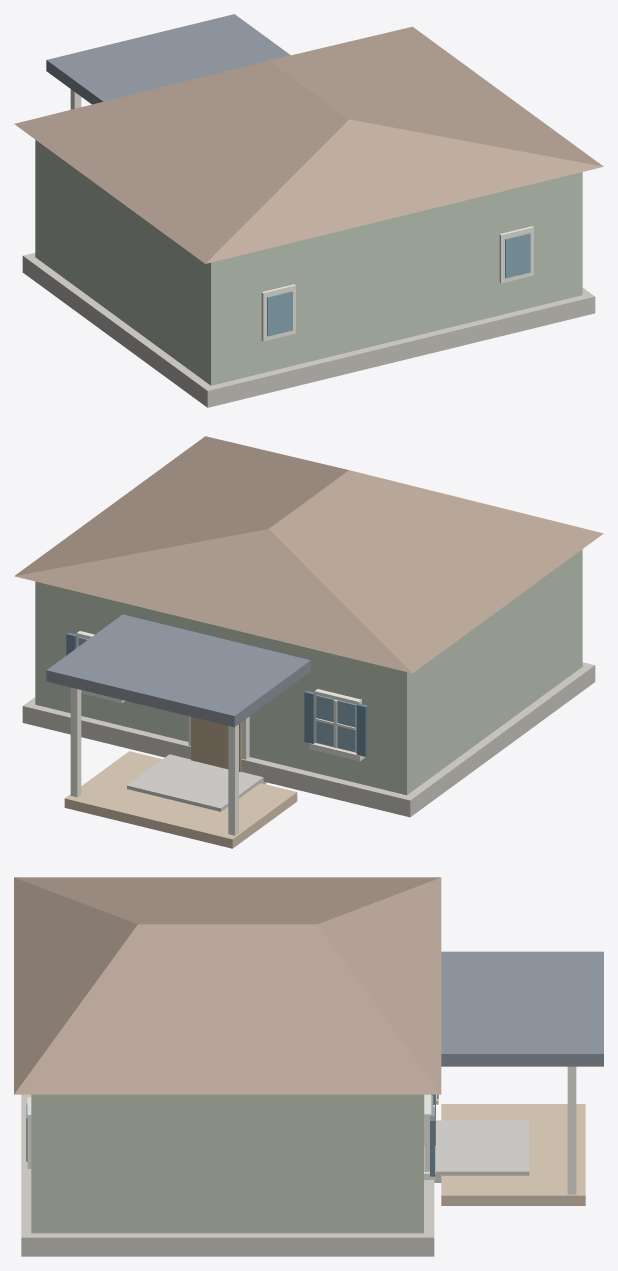
Rendered from House_Bungalow.glb.
3 renders of one model, top to bottom at view 1: azimuth 30°, elevation 25°; view 2: azimuth 150°, elevation 25°; view 3: azimuth 270°, elevation 25°, orthographic. The views are drawn at different scales.
Visible parts, largest first — view 1: 002_hip_roof_002, 001_exterior_001, 000_foundation_000, 025_porch_roof_025, 027_rear_glass_027, 029_rear_glass_029, 028_rear_window_028, 026_rear_window_026; view 2: 002_hip_roof_002, 001_exterior_001, 025_porch_roof_025, 000_foundation_000, 022_porch_deck_022, 021_stoop_021, 018_door_018, 004_window_glass_004, 024_porch_post_024, 023_porch_post_023, 008_shutter_008, 009_shutter_009; view 3: 002_hip_roof_002, 001_exterior_001, 025_porch_roof_025, 000_foundation_000, 022_porch_deck_022, 021_stoop_021, 024_porch_post_024, 010_window_trim_010.
Part boxes in pixels (x1,y1,x2,y2): 002_hip_roof_002: (14, 26, 603, 263); 001_exterior_001: (35, 140, 582, 385); 000_foundation_000: (22, 253, 595, 407); 025_porch_roof_025: (46, 14, 290, 104); 027_rear_glass_027: (267, 291, 292, 336); 029_rear_glass_029: (505, 233, 530, 278); 028_rear_window_028: (499, 226, 533, 283); 026_rear_window_026: (261, 284, 295, 341); 002_hip_roof_002: (14, 436, 603, 673); 001_exterior_001: (35, 549, 582, 795); 025_porch_roof_025: (46, 614, 310, 727); 000_foundation_000: (22, 662, 595, 817); 022_porch_deck_022: (64, 751, 297, 848); 021_stoop_021: (127, 754, 266, 811); 018_door_018: (191, 717, 241, 772); 004_window_glass_004: (316, 695, 356, 751); 024_porch_post_024: (70, 687, 81, 797); 023_porch_post_023: (228, 724, 238, 835); 008_shutter_008: (356, 703, 367, 756); 009_shutter_009: (304, 690, 314, 743); 002_hip_roof_002: (14, 877, 441, 1094); 001_exterior_001: (31, 1094, 423, 1233); 025_porch_roof_025: (441, 951, 603, 1066); 000_foundation_000: (21, 1094, 434, 1256); 022_porch_deck_022: (441, 1104, 585, 1205); 021_stoop_021: (434, 1120, 529, 1182); 024_porch_post_024: (567, 1066, 576, 1194); 010_window_trim_010: (424, 1094, 431, 1171).
Size of the model in its own units: 8.9 by 4.51 by 10.21.
